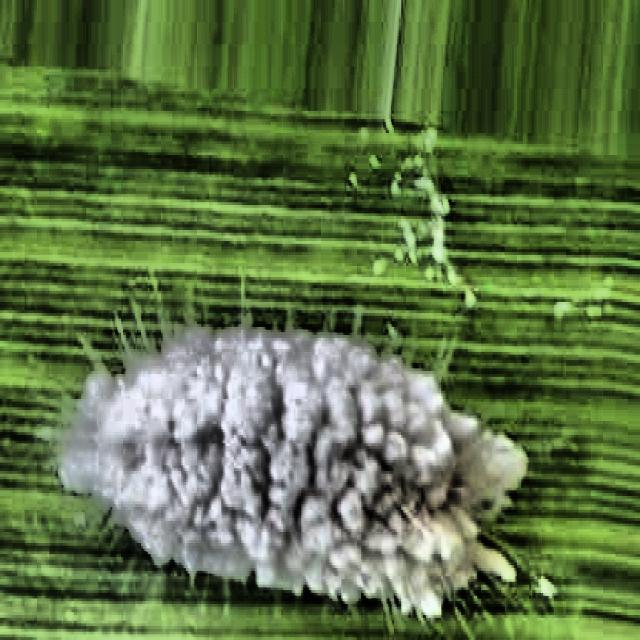Mealy-bug: (60, 278, 531, 622)
